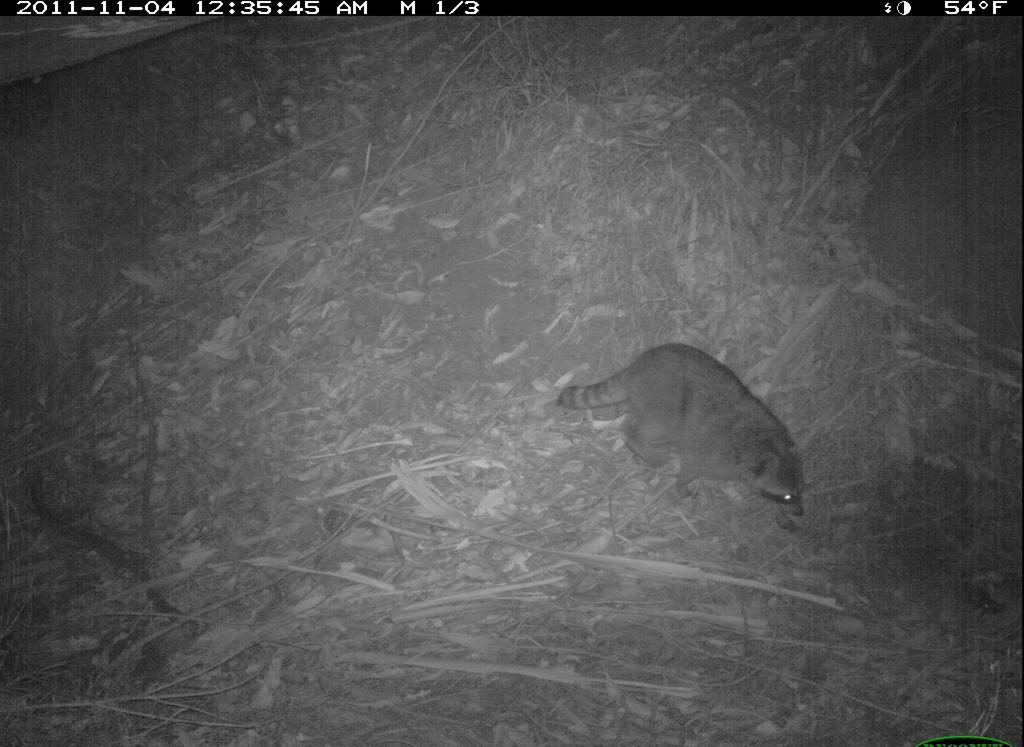raccoon: (547, 335, 816, 537)
